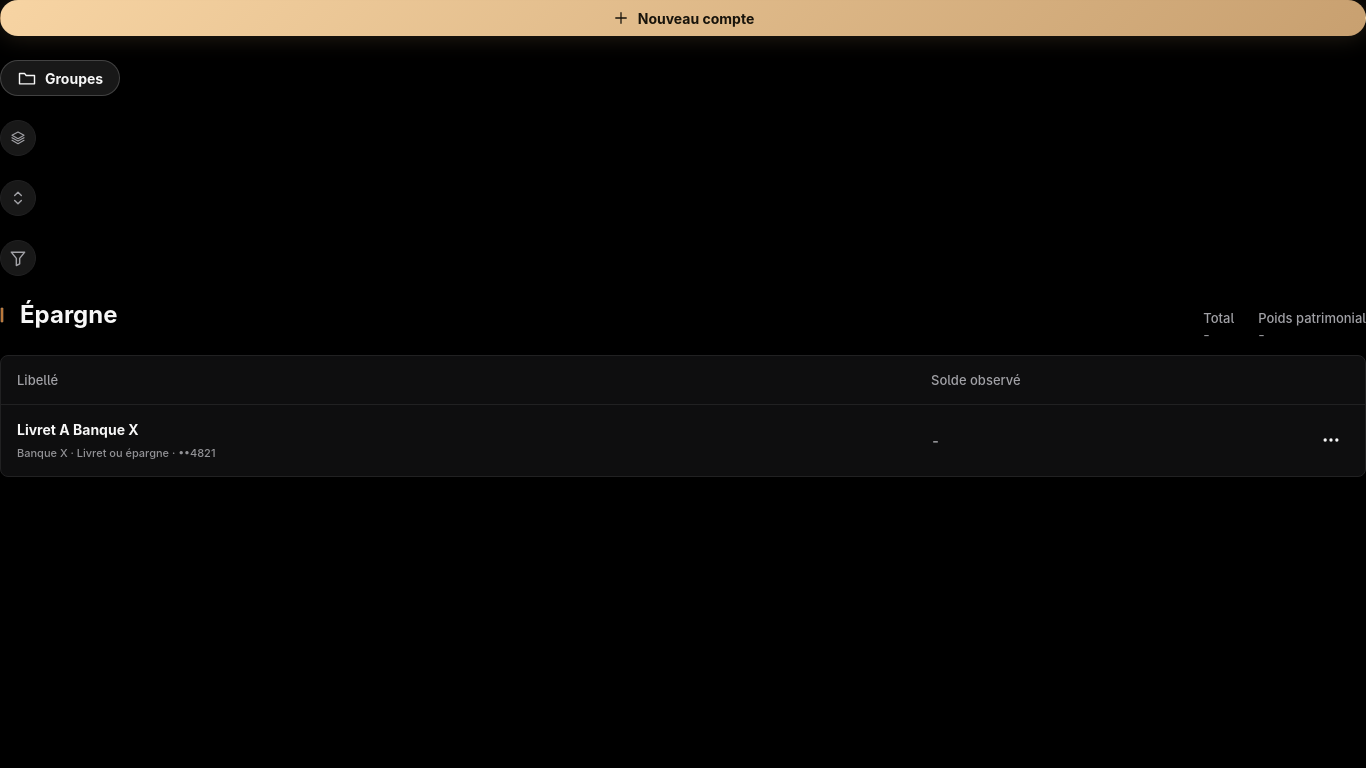
it: AccountsPage › does not focus the archive confirm, so Enter closes instead of archiving
Click the button named "Actions du compte Livret A Banque X": (1331,440) [1313,422,1349,458]
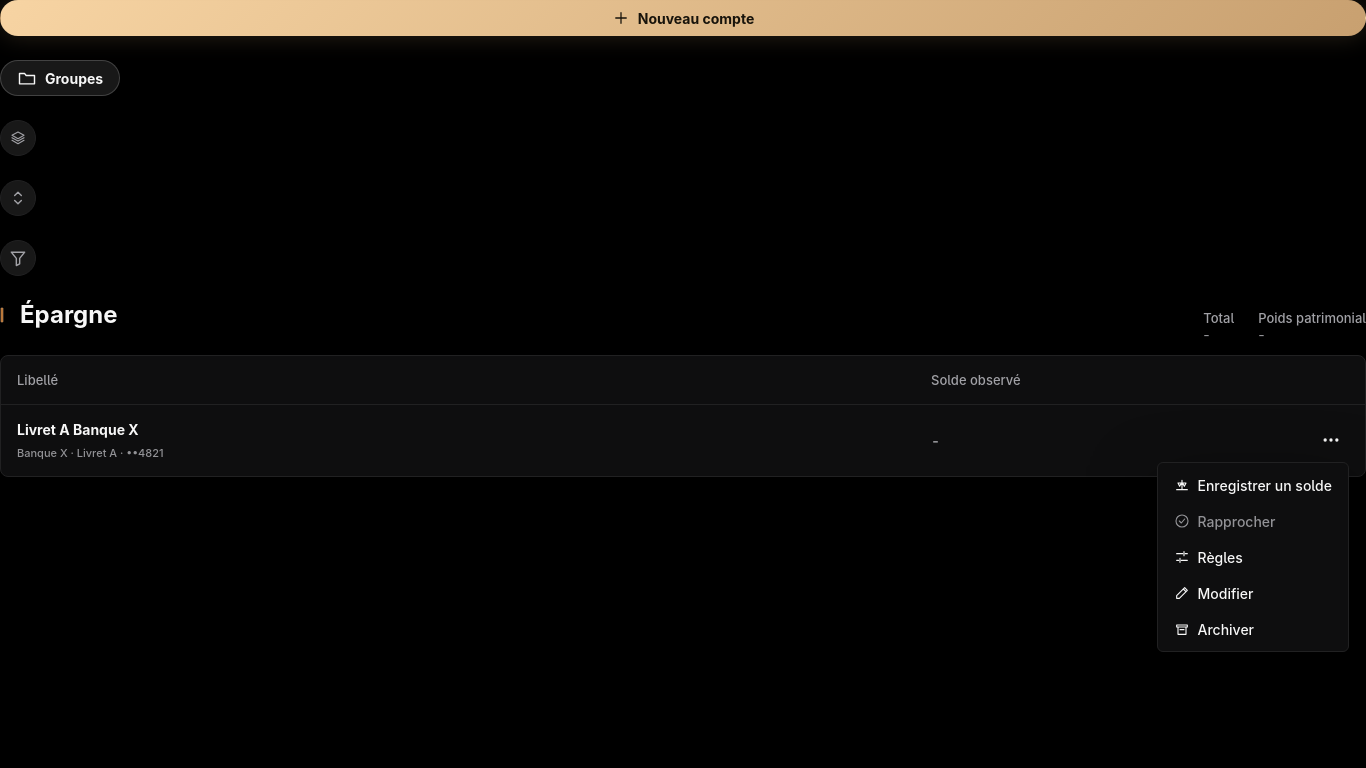
Click the button with aria-label "Archiver le compte Livret A Banque X": (1253,629) [1162,611,1344,647]
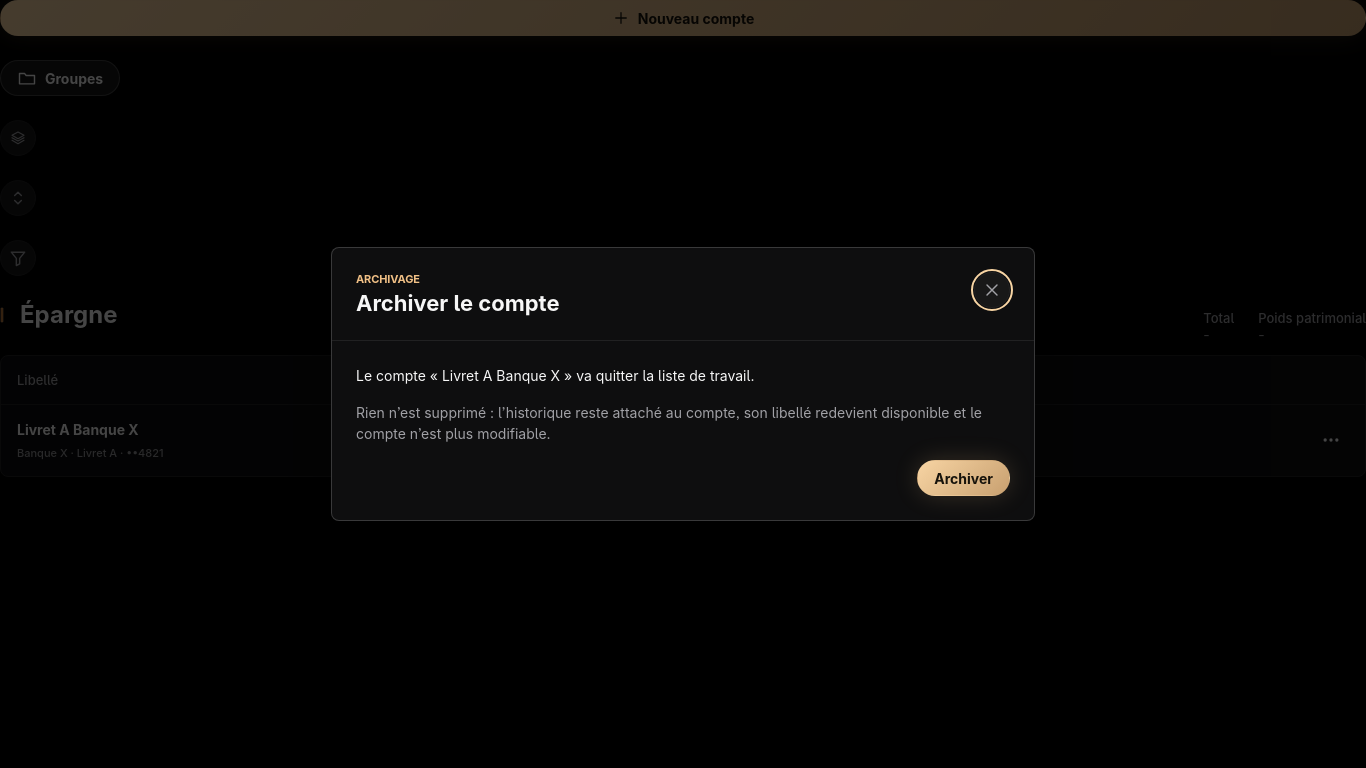
Press Enter in the button named "Fermer", box [974,272,1010,308]
Click the button named "Fermer": (992,290) [974,272,1010,308]
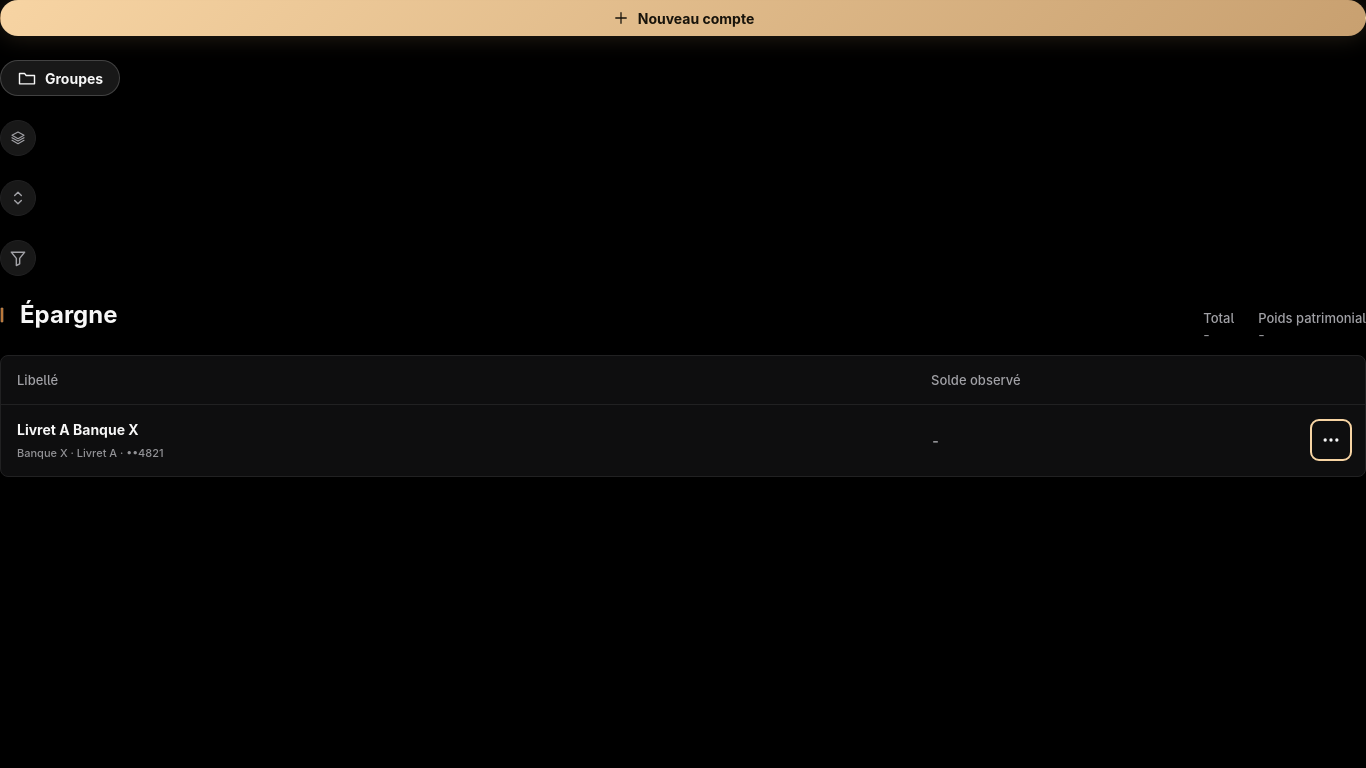
Expected: the heading "Archiver le compte" is gone
